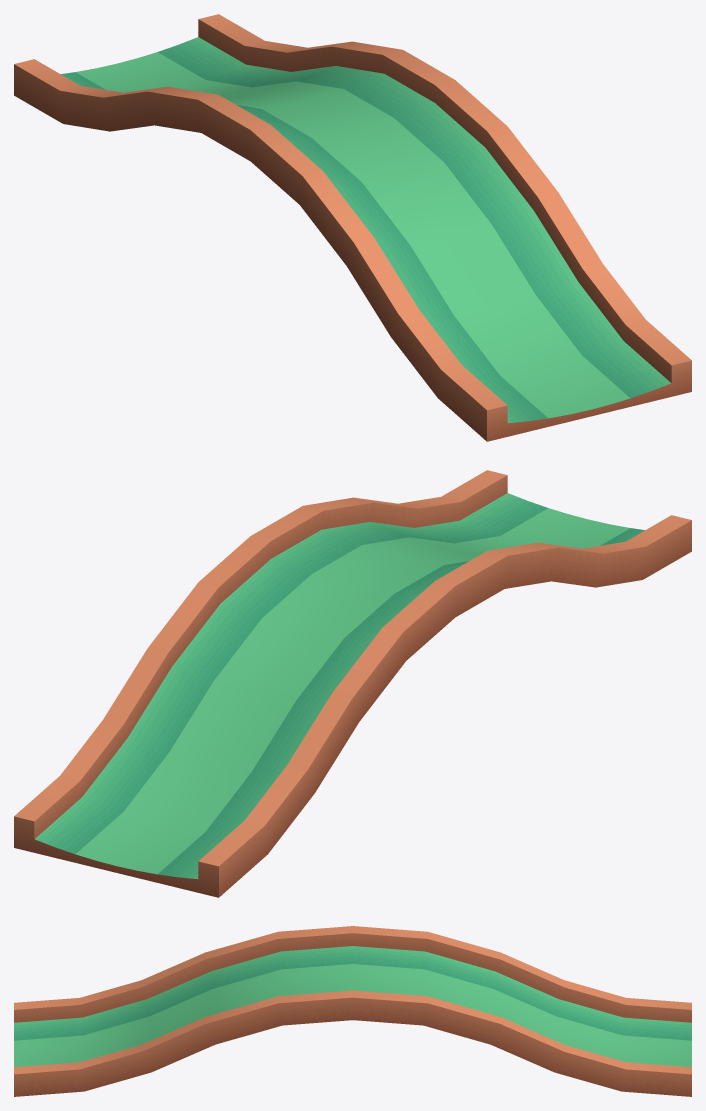
Rendered from spline-concave-straight-bump-up.glb.
The picture shows the model from 3 angles, top to bottom: view 1: azimuth 30°, elevation 25°; view 2: azimuth 150°, elevation 25°; view 3: azimuth 270°, elevation 25°; orthographic projection. The views are drawn at different scales.
Visible parts, largest first — view 1: spline-concave-straight-bump-up; view 2: spline-concave-straight-bump-up; view 3: spline-concave-straight-bump-up.
Part boxes in pixels (x1,y1,x2,y2): spline-concave-straight-bump-up: [14, 14, 691, 441]; spline-concave-straight-bump-up: [14, 470, 691, 897]; spline-concave-straight-bump-up: [14, 926, 691, 1096].
Size of the model in its own units: 0.9999 by 0.6467 by 4.
1 material, 1 textured.
